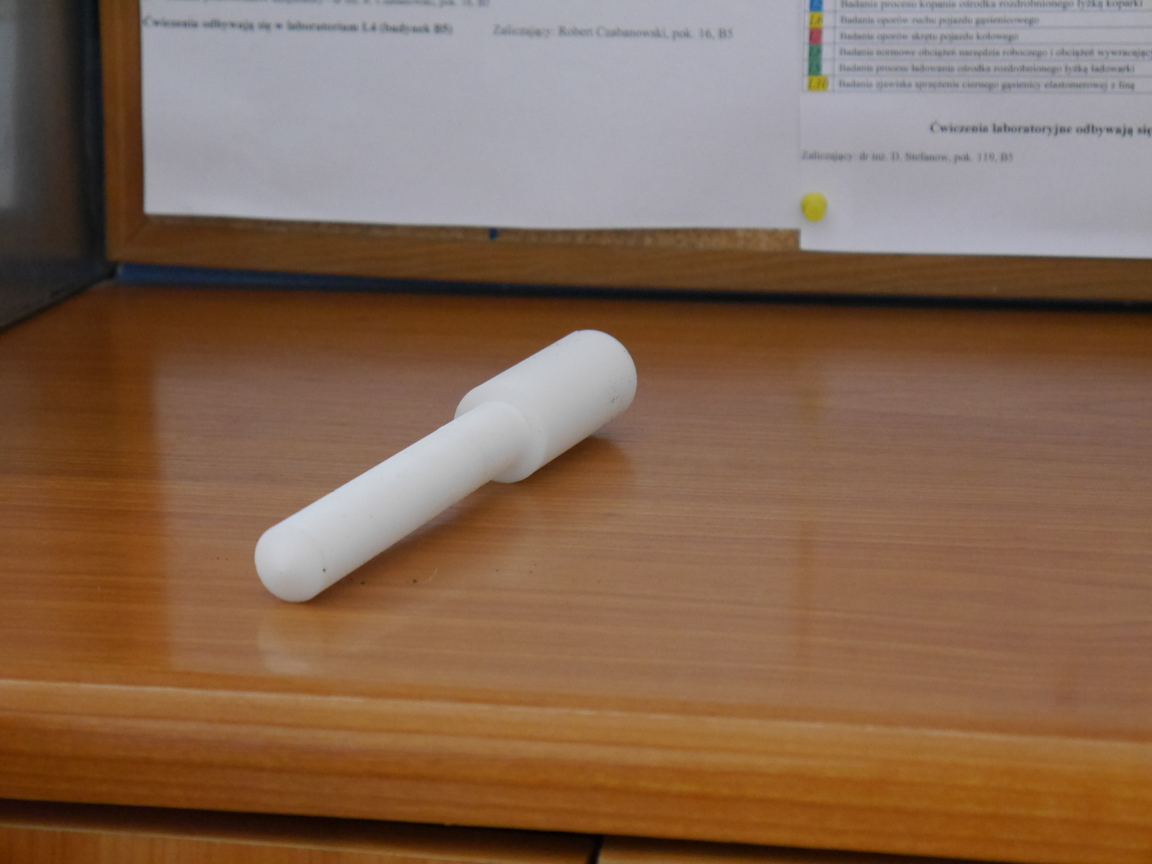cargo_g: (253, 327, 640, 603)
